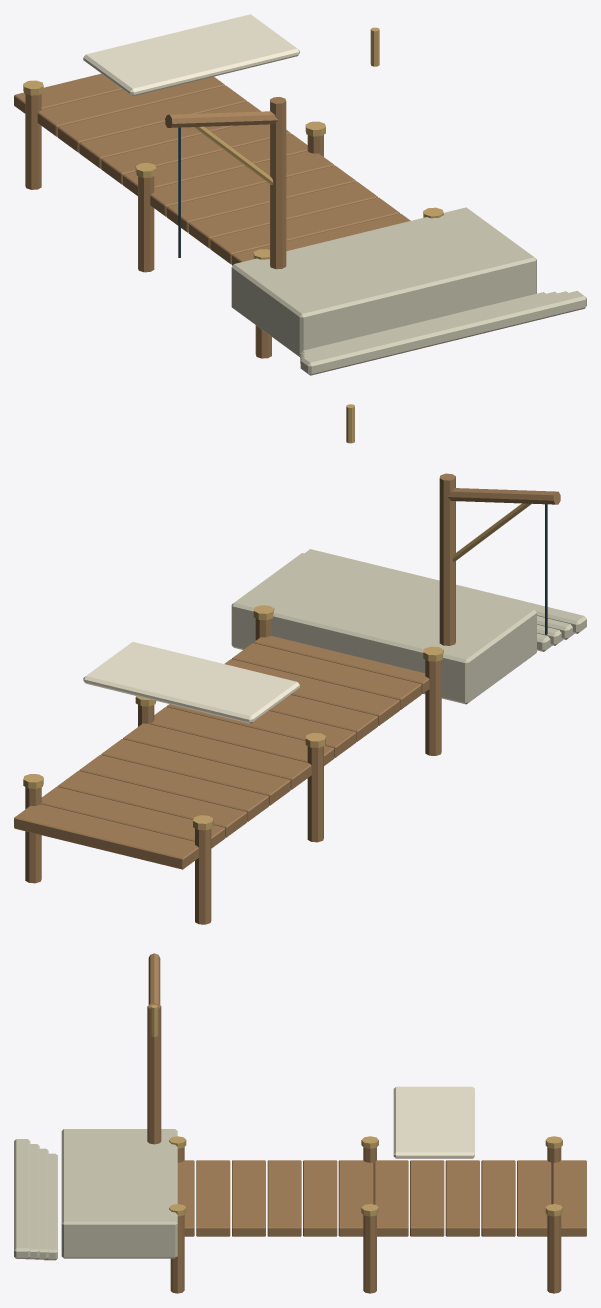
File: level_25.glb
3 views of the same model, one above another, from view 1: azimuth 30°, elevation 25°; view 2: azimuth 150°, elevation 25°; view 3: azimuth 270°, elevation 25° (orthographic). The views are drawn at different scales.
Parts seen in each view (by area): view 1: dock — level 25; view 2: dock — level 25; view 3: dock — level 25.
Boxes of the visible parts, bbox=[...] form: dock — level 25: bbox=[14, 14, 586, 375]; dock — level 25: bbox=[14, 404, 586, 924]; dock — level 25: bbox=[14, 953, 586, 1293].
Size of the model in its own units: 5.45 by 4.86 by 9.88.
